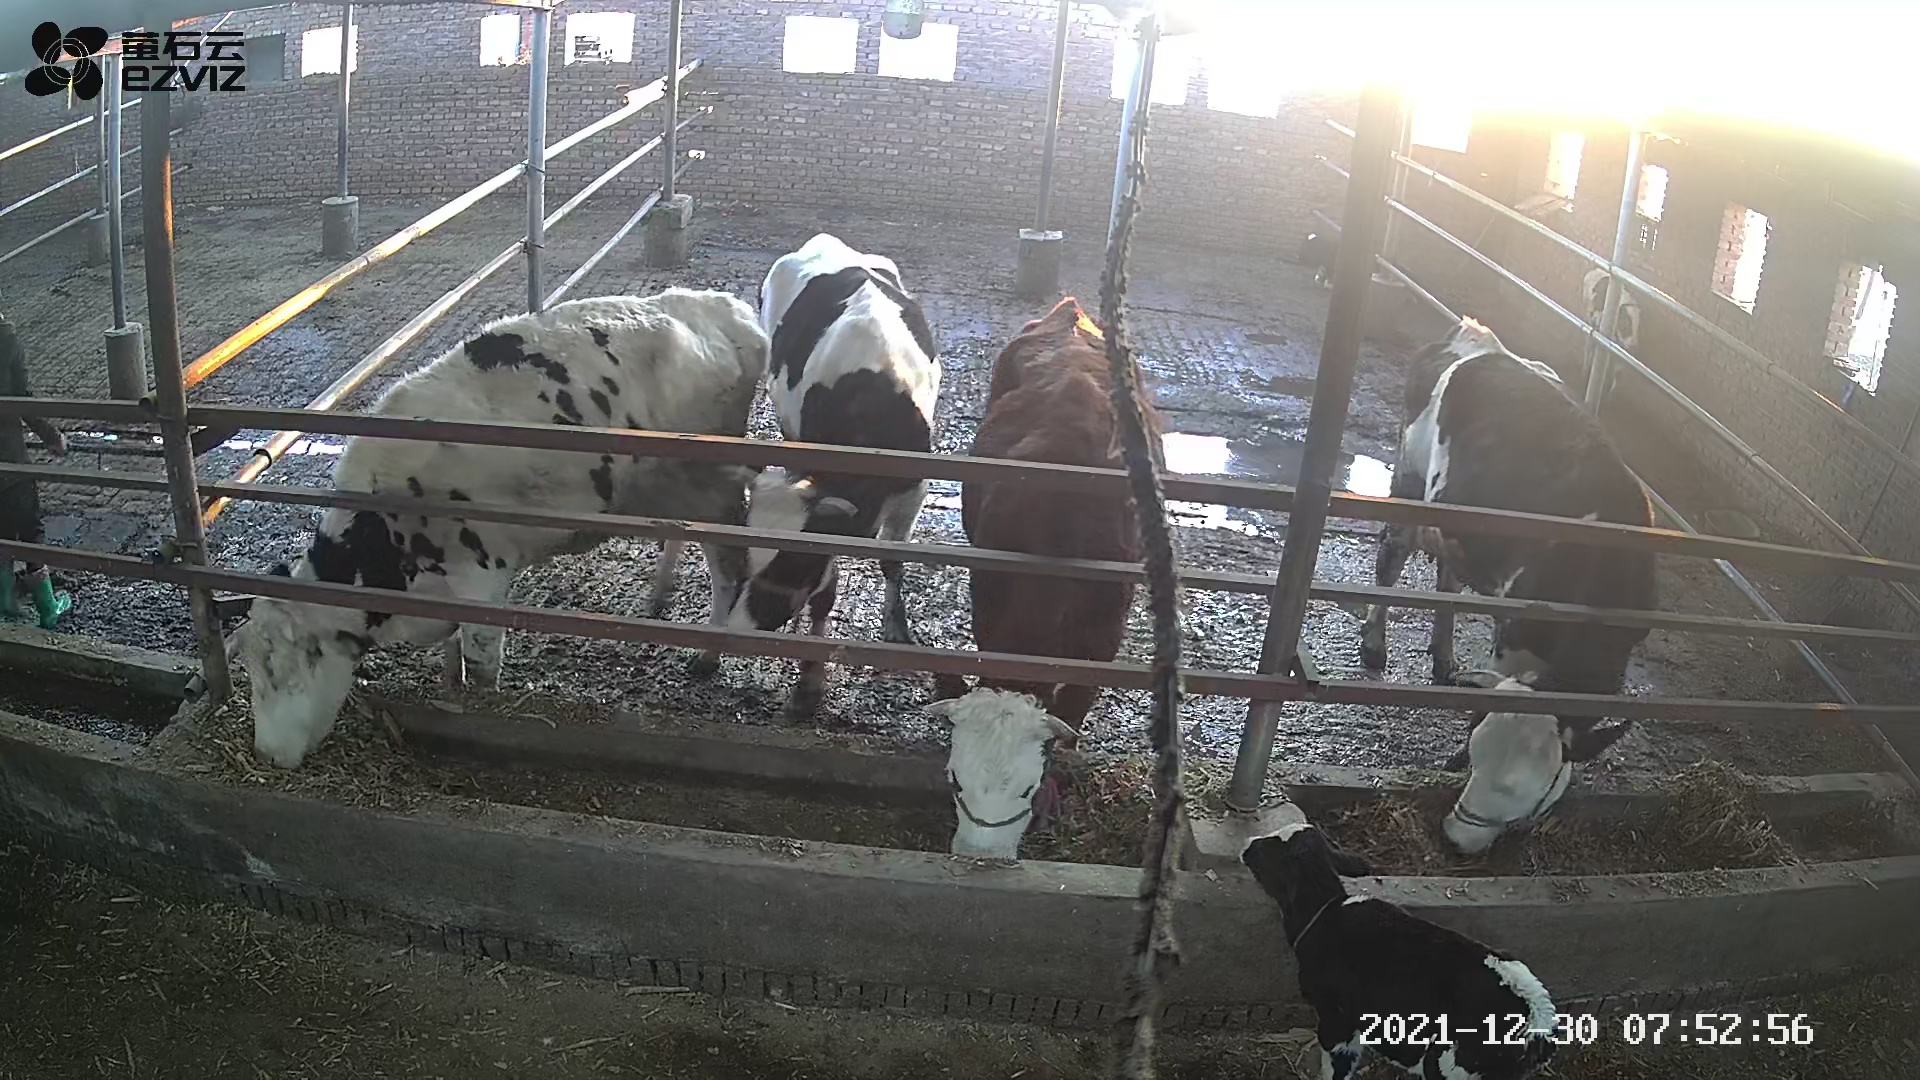cow: (232, 282, 769, 773), (1353, 311, 1656, 858), (919, 295, 1168, 862), (727, 233, 942, 721)
